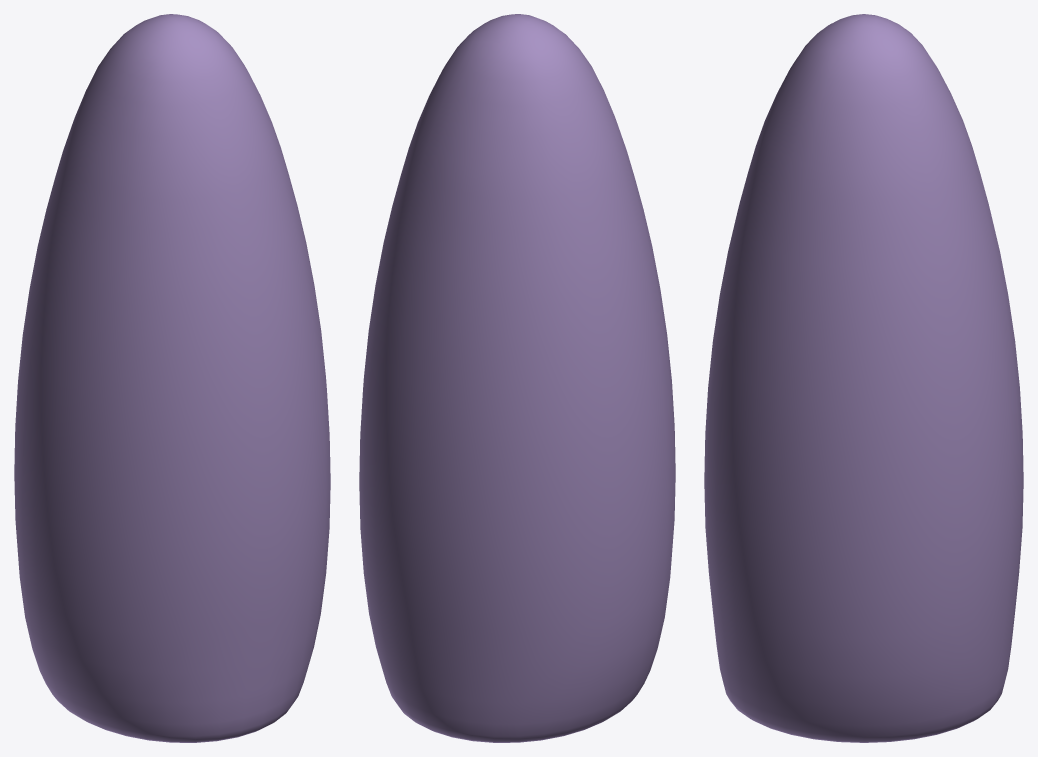
The model's file is SM_20010ArbustoAlto.fbx.
3 renders of one model, left to right at view 1: azimuth 30°, elevation 25°; view 2: azimuth 150°, elevation 25°; view 3: azimuth 270°, elevation 25°, orthographic.
Visible parts, largest first — view 1: SM_20010ArbustoAlto_geo_1; view 2: SM_20010ArbustoAlto_geo_1; view 3: SM_20010ArbustoAlto_geo_1.
Boxes of the visible parts, box(x1,y1,x2,y2) form: SM_20010ArbustoAlto_geo_1: box(14, 14, 330, 742); SM_20010ArbustoAlto_geo_1: box(359, 14, 675, 742); SM_20010ArbustoAlto_geo_1: box(704, 14, 1023, 742).
Size of the model in its own units: 47.56 by 111 by 47.57.
